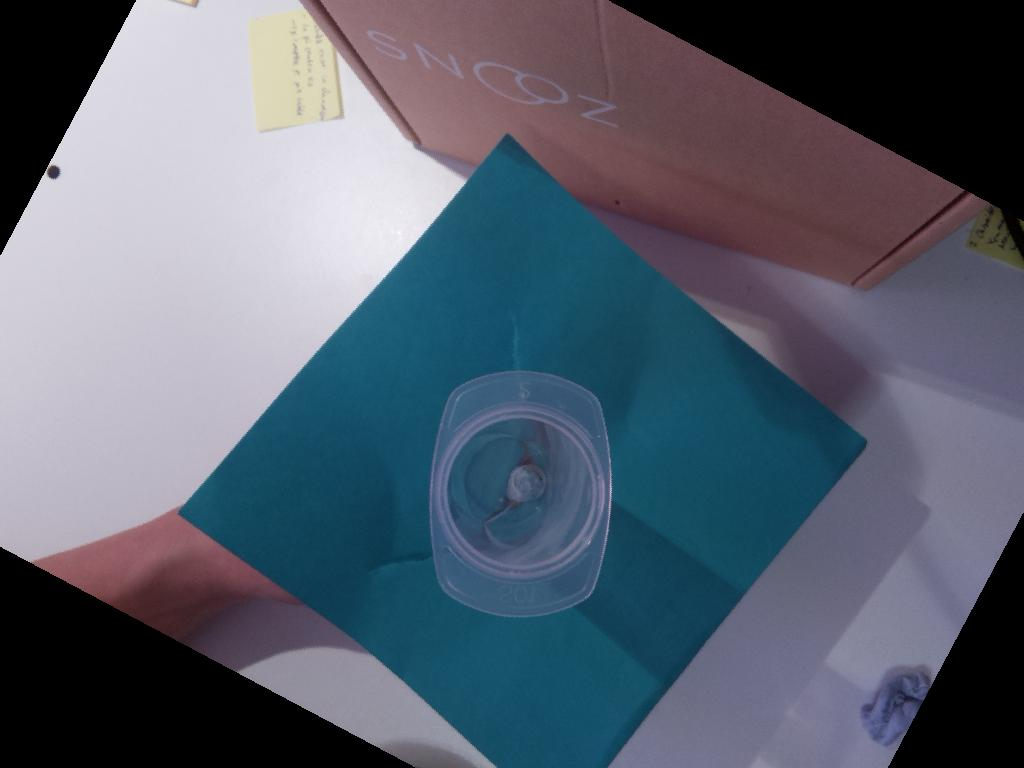clean: (430, 364, 620, 615)
